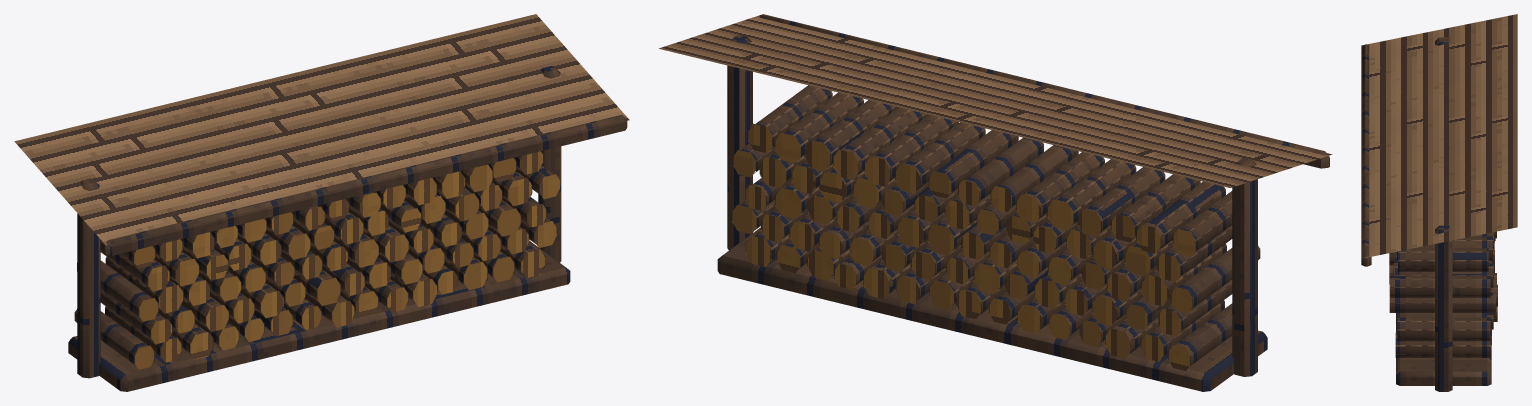
Rendered from firewood_pile_1.glb.
3 renders of one model, left to right at view 1: azimuth 30°, elevation 25°; view 2: azimuth 150°, elevation 25°; view 3: azimuth 270°, elevation 25°, orthographic. The views are drawn at different scales.
Parts seen in each view (by area): view 1: firewood_pile_2; view 2: firewood_pile_2; view 3: firewood_pile_2.
Boxes of the visible parts, box(x1,y1,x2,y2) form: firewood_pile_2: box(14, 14, 629, 391); firewood_pile_2: box(659, 14, 1332, 391); firewood_pile_2: box(1361, 14, 1517, 391).
Bounding box in the file's own units: 2.9 × 1.1 × 0.9.
4 materials, 4 textured.
